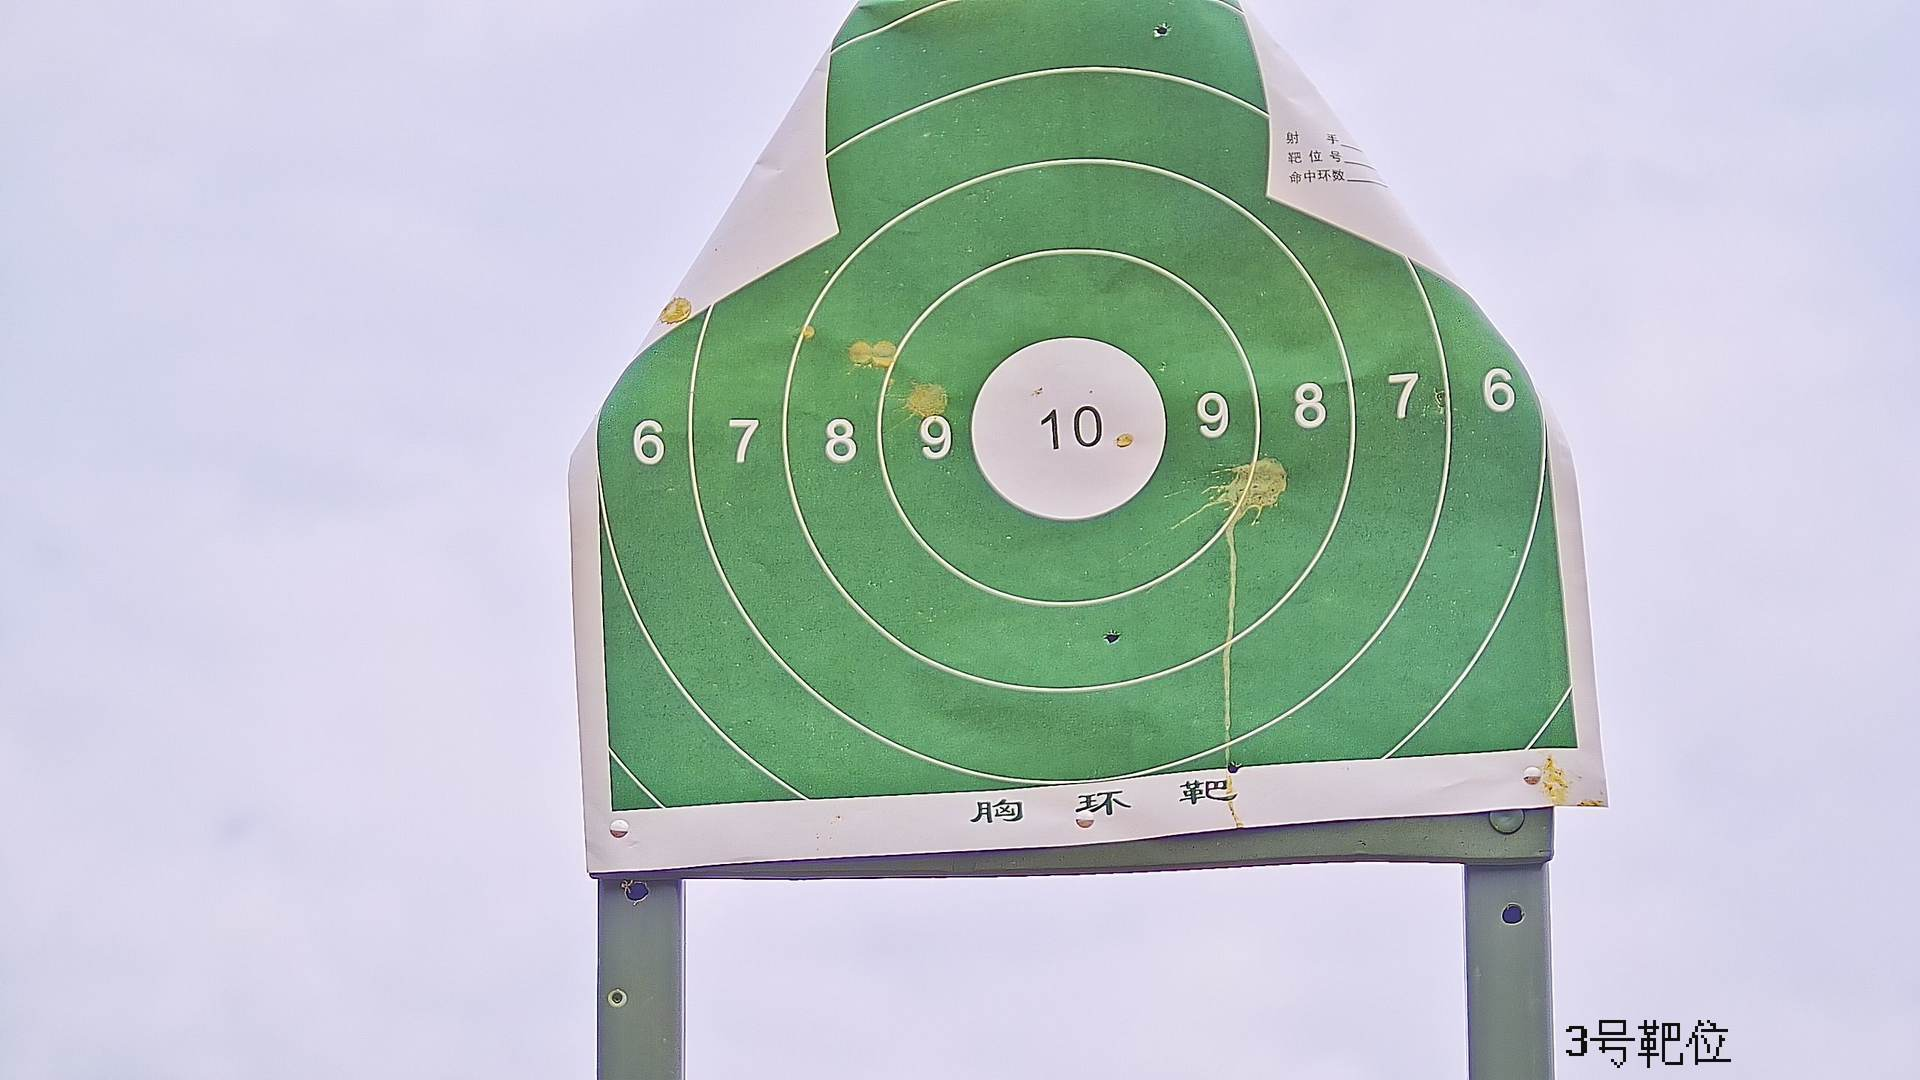hole: (1153, 22, 1171, 37), (1104, 629, 1120, 644), (1226, 762, 1242, 773)
kernel: (1065, 425, 1069, 430)
target: (592, 1, 1584, 807)
ten: (971, 340, 1170, 525)
